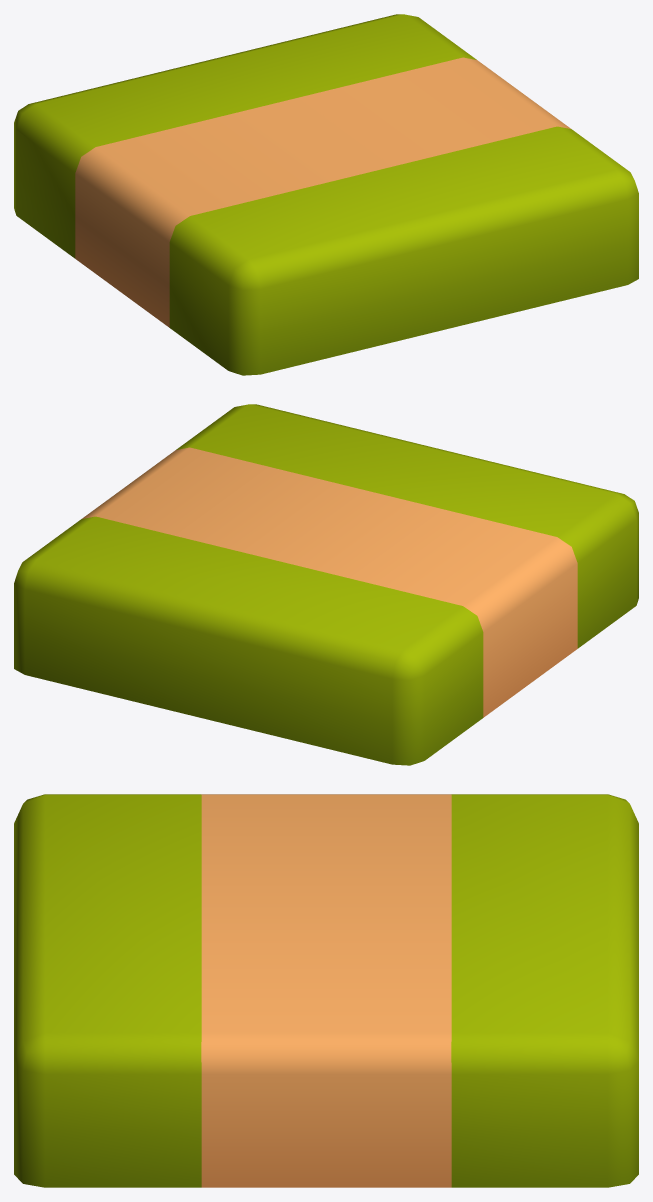
File: 3D_Tile_Top_Path_01.fbx
The picture shows the model from 3 angles, top to bottom: view 1: azimuth 30°, elevation 25°; view 2: azimuth 150°, elevation 25°; view 3: azimuth 270°, elevation 25°; orthographic projection. The views are drawn at different scales.
Parts seen in each view (by area): view 1: 3D_Tile_Top_Path_01; view 2: 3D_Tile_Top_Path_01; view 3: 3D_Tile_Top_Path_01.
Boxes of the visible parts, bbox=[...] form: 3D_Tile_Top_Path_01: bbox=[14, 14, 638, 375]; 3D_Tile_Top_Path_01: bbox=[14, 404, 638, 765]; 3D_Tile_Top_Path_01: bbox=[14, 794, 638, 1187].
Size of the model in its own units: 200 by 50 by 200.
